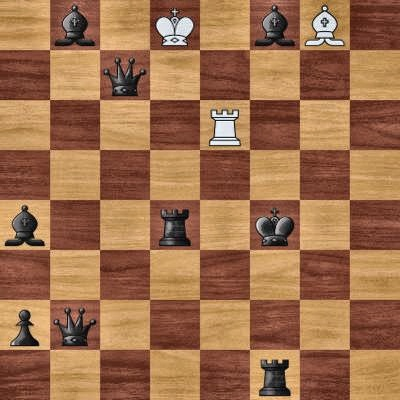black-bishop: (50, 0, 100, 50), (250, 0, 300, 50), (0, 200, 50, 250)
black-king: (250, 200, 300, 250)
black-pawn: (0, 300, 50, 350)
black-queen: (100, 50, 150, 100), (50, 300, 100, 350)
black-rook: (150, 200, 200, 250), (250, 350, 300, 400)
white-bishop: (300, 0, 350, 50)
white-king: (150, 0, 200, 50)
white-rook: (200, 100, 250, 150)
